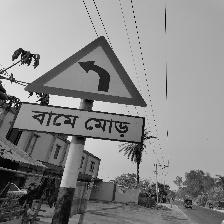Left-Turn: (16, 36, 148, 147)
